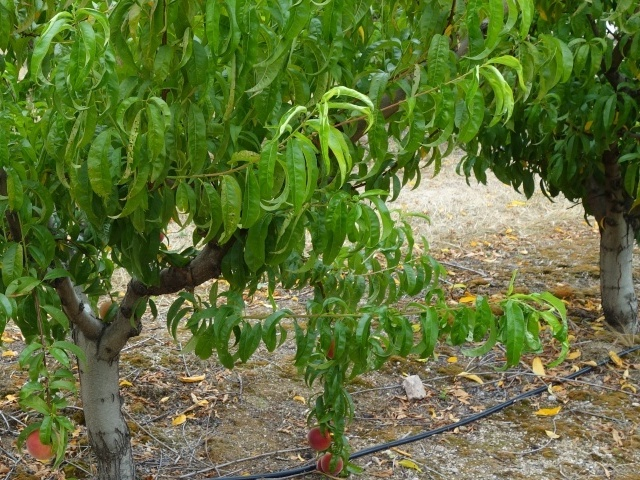peach: (22, 424, 64, 464), (305, 423, 334, 452), (316, 452, 344, 477), (95, 298, 119, 323)
